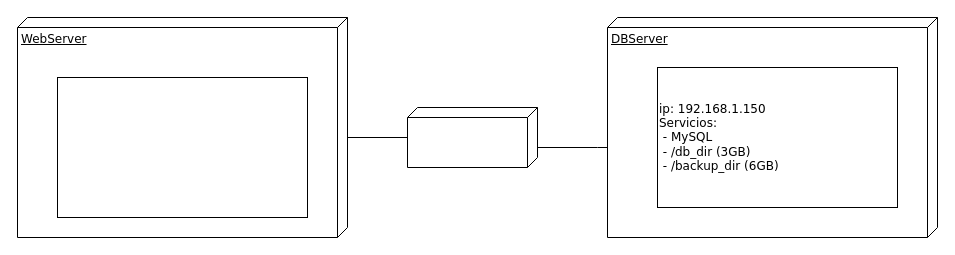
The diagram is 955 pixels wide and 255 high, and some of its shapes have lost their labels. The centre of each missing label's shape, as x and y in pixels:
"ip: 192.168.1.151 Servicios: - Apache (PHP) - /www_dir (3GB) - /backup_dir (6GB)" belongs at [182,147].
"LOCAL NETWORK" belongs at [472,137].
